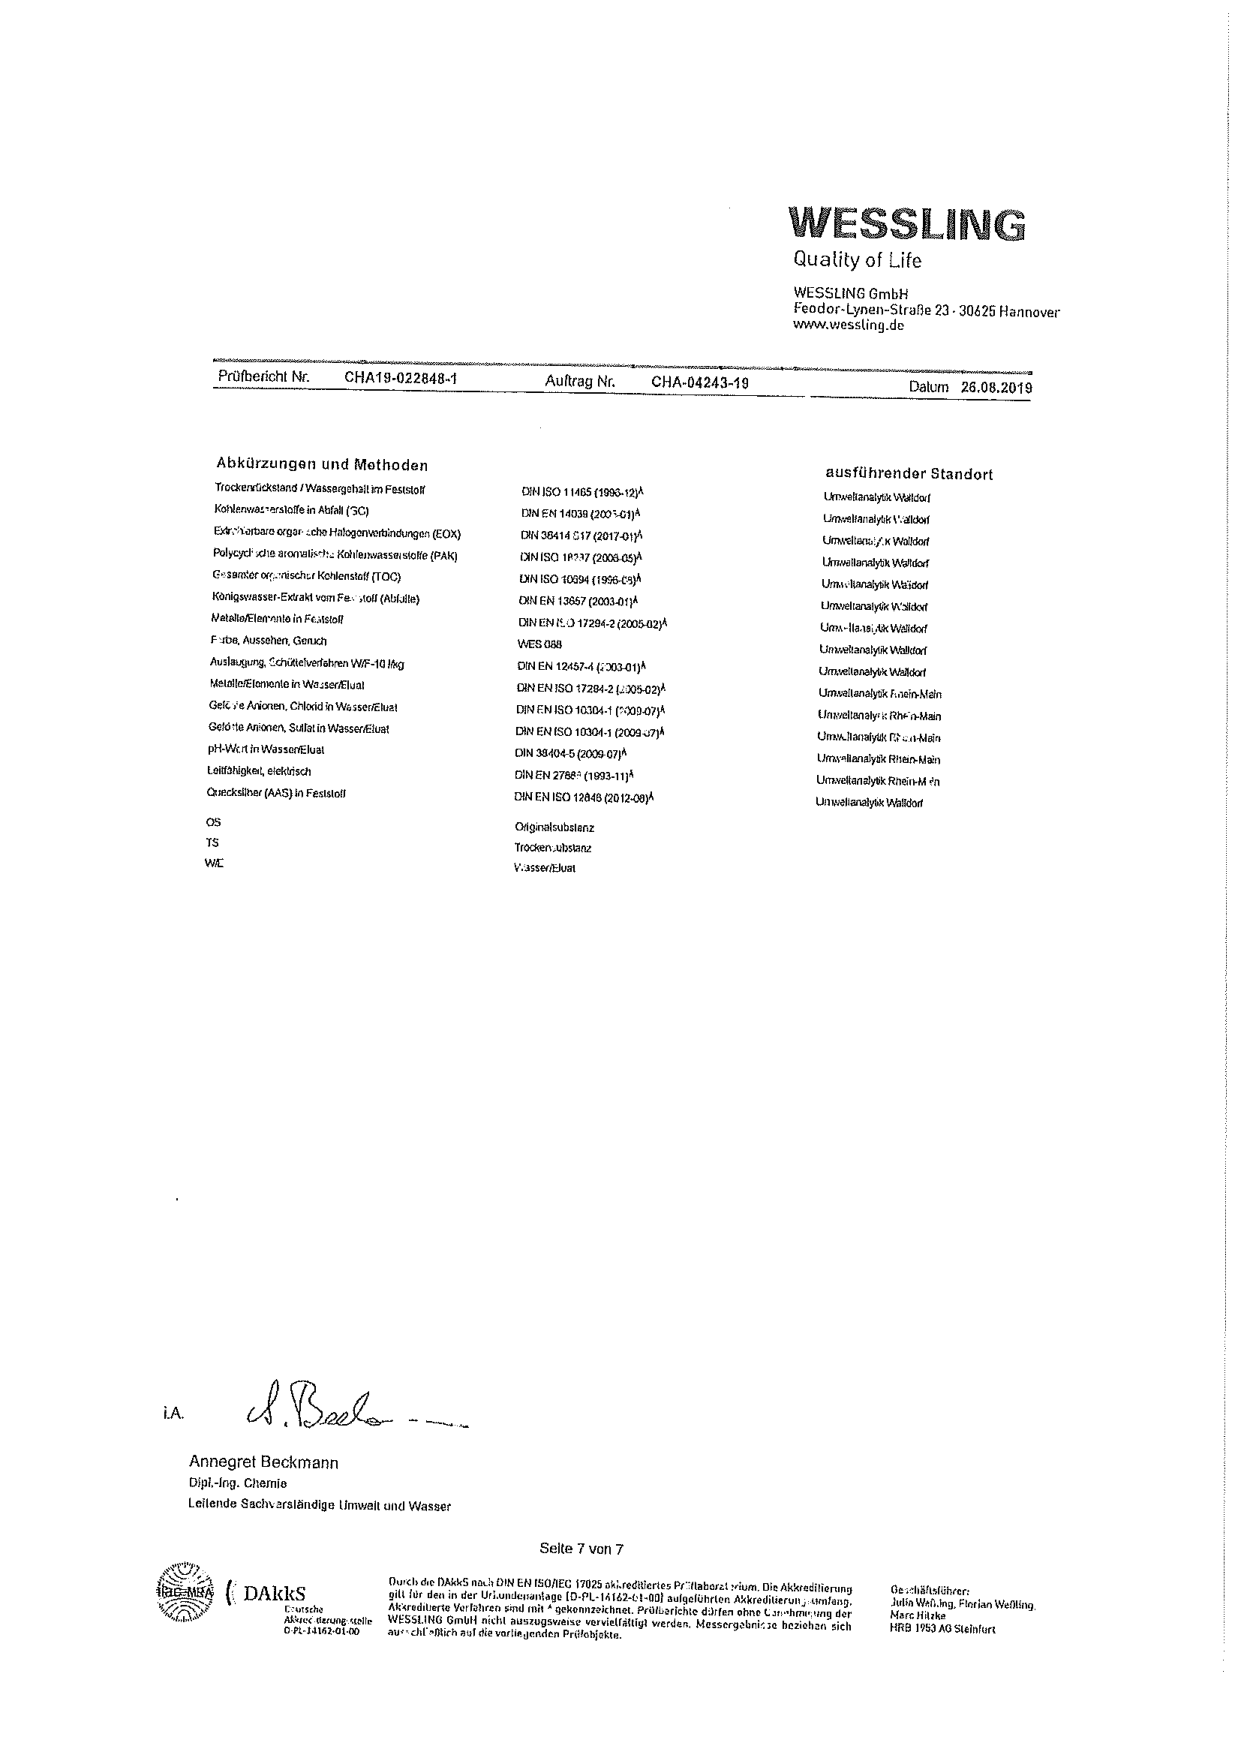table: (161, 440, 990, 880)
